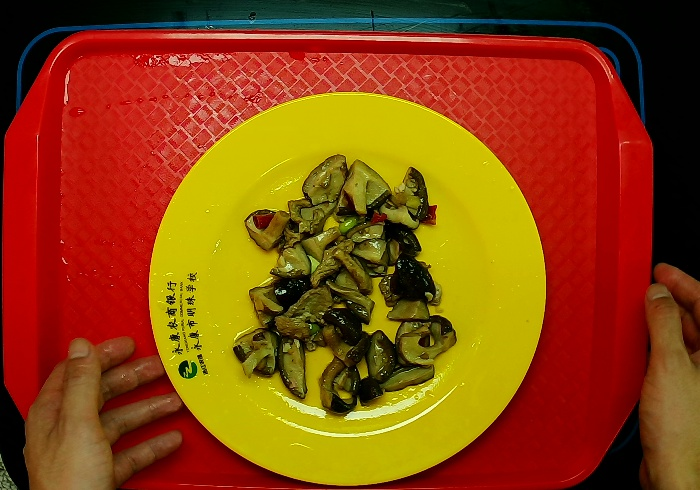YKMZ-Huang_Se_Mian_Pan: (142, 92, 557, 490)
